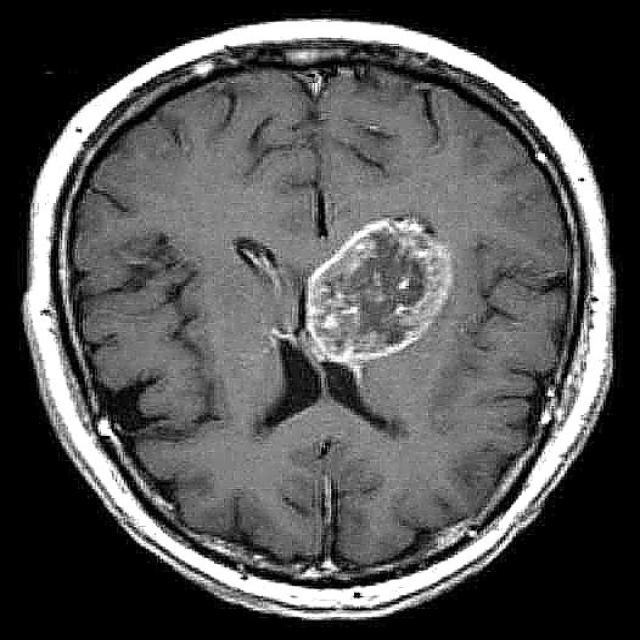Tumor-Cell: (289, 193, 457, 381)
